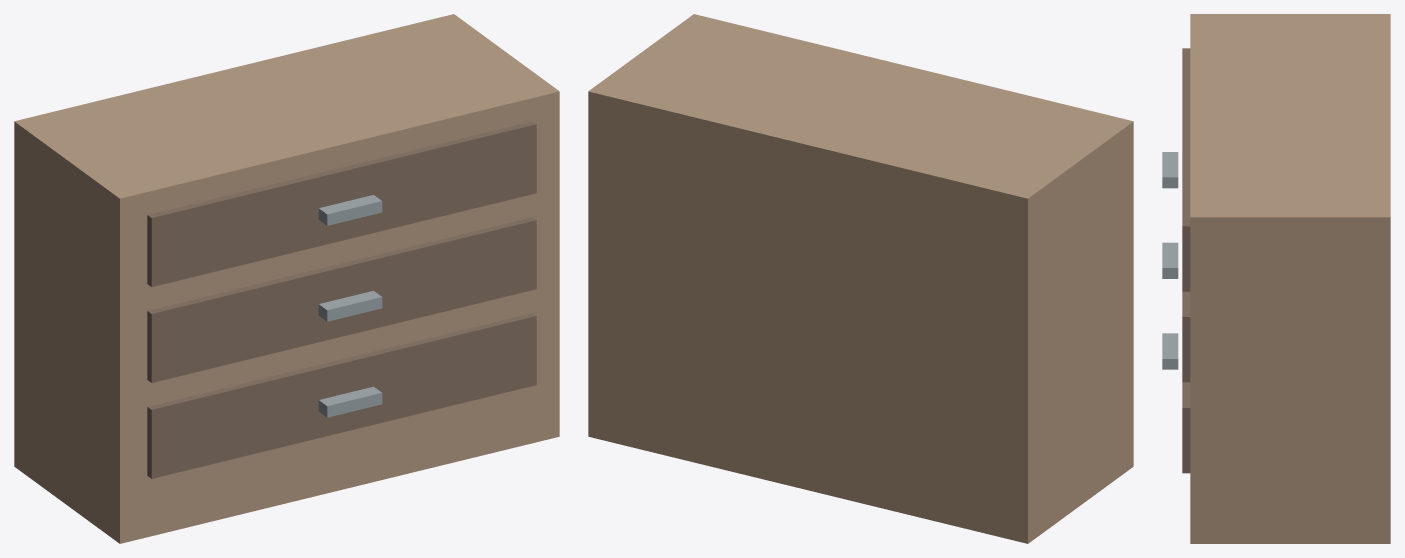
File: dresser_basic.glb
3 renders of one model, left to right at view 1: azimuth 30°, elevation 25°; view 2: azimuth 150°, elevation 25°; view 3: azimuth 270°, elevation 25°, orthographic. The views are drawn at different scales.
Parts seen in each view (by area): view 1: p000, p003, p001, p005, p004, p006, p002; view 2: p000; view 3: p000, p005, p001, p003, p002, p004, p006.
Part boxes in pixels (<box>): p000: <box>14,14,559,543</box>; p003: <box>147,217,536,382</box>; p001: <box>147,313,536,478</box>; p005: <box>147,121,536,286</box>; p004: <box>318,290,382,321</box>; p006: <box>318,195,382,225</box>; p002: <box>318,386,382,417</box>; p000: <box>588,14,1133,543</box>; p000: <box>1190,14,1390,543</box>; p005: <box>1182,48,1190,291</box>; p001: <box>1182,382,1190,473</box>; p003: <box>1182,291,1190,382</box>; p002: <box>1162,333,1178,369</box>; p004: <box>1162,242,1178,278</box>; p006: <box>1162,152,1178,188</box>.
Size of the model in its own units: 1.2 by 0.9 by 0.57.
